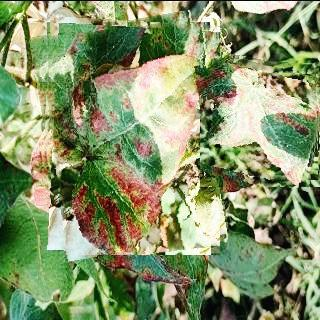blight: (39, 15, 221, 254), (200, 56, 320, 186)
